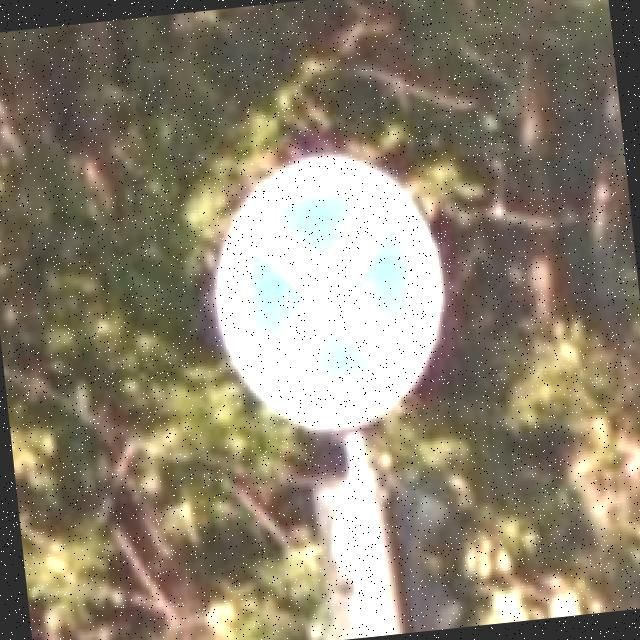Zakaz zatrzymywania sie: (200, 147, 460, 445)
